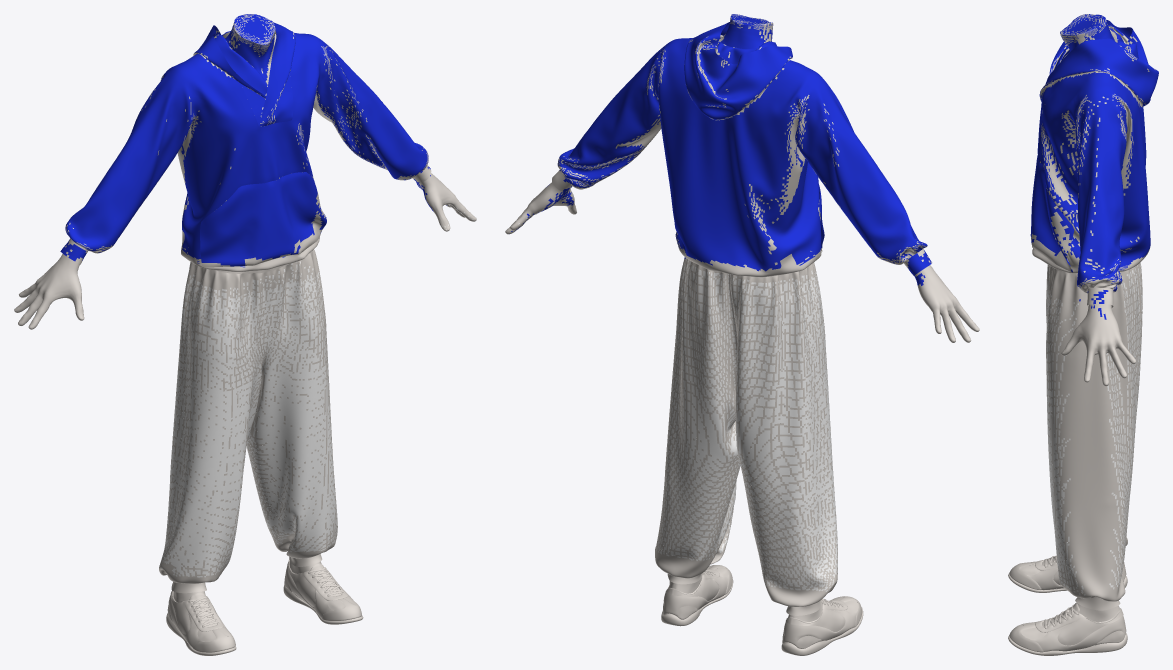
File: men2.glb
3 views of the same model, side by side, from view 1: azimuth 30°, elevation 25°; view 2: azimuth 150°, elevation 25°; view 3: azimuth 270°, elevation 25° (orthographic). The views are drawn at different scales.
Visible parts, largest first — view 1: Track Suit; view 2: Track Suit; view 3: Track Suit.
Boxes of the visible parts, box(x1,y1,x2,y2) form: Track Suit: box(14, 14, 476, 655); Track Suit: box(505, 14, 979, 655); Track Suit: box(1008, 14, 1158, 655).
Bounding box in the file's own units: 1.55 × 1.96 × 0.4483.
